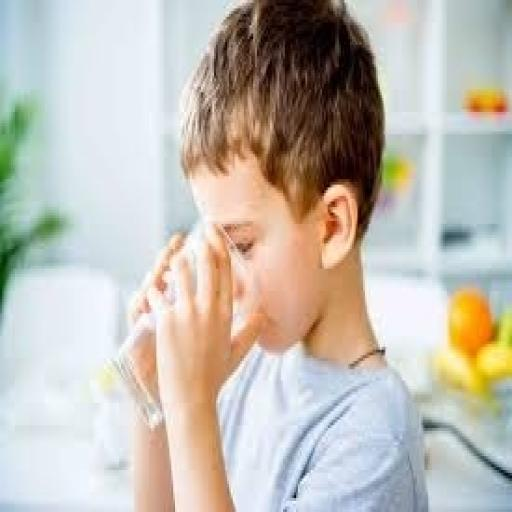drinking: (108, 68, 349, 467)
